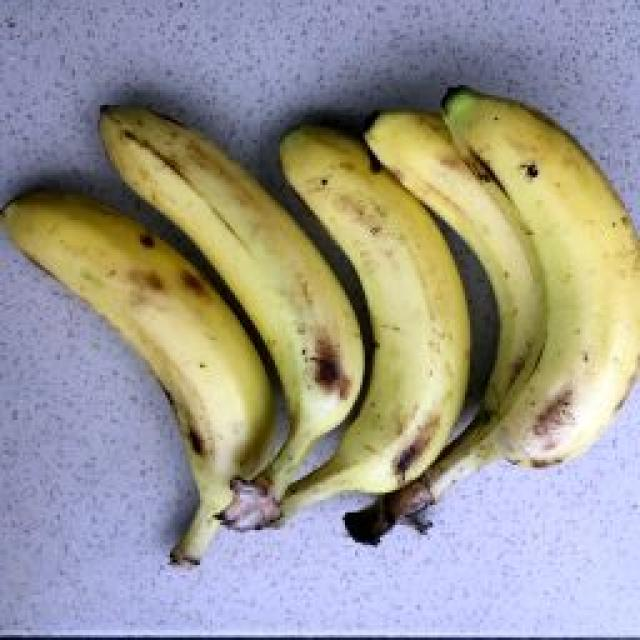banana: (75, 108, 640, 521)
